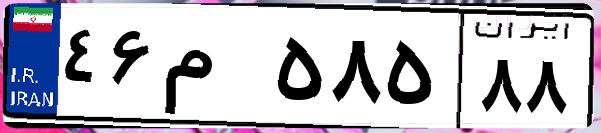4: (57, 26, 110, 100)
5: (270, 28, 330, 110), (385, 28, 445, 110)
6: (110, 28, 158, 98)
8: (330, 28, 385, 110), (475, 38, 525, 113), (525, 38, 570, 115)
م: (158, 20, 270, 120)
